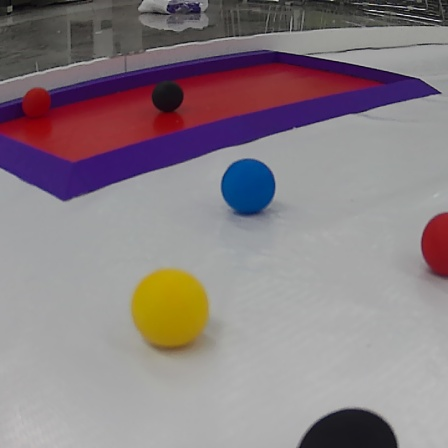black: (297, 396, 403, 448), (149, 79, 186, 116)
blue: (221, 156, 281, 219)
red: (414, 206, 448, 290), (22, 87, 55, 121)
red_aim: (5, 50, 445, 207)
yellow: (130, 261, 211, 361)
